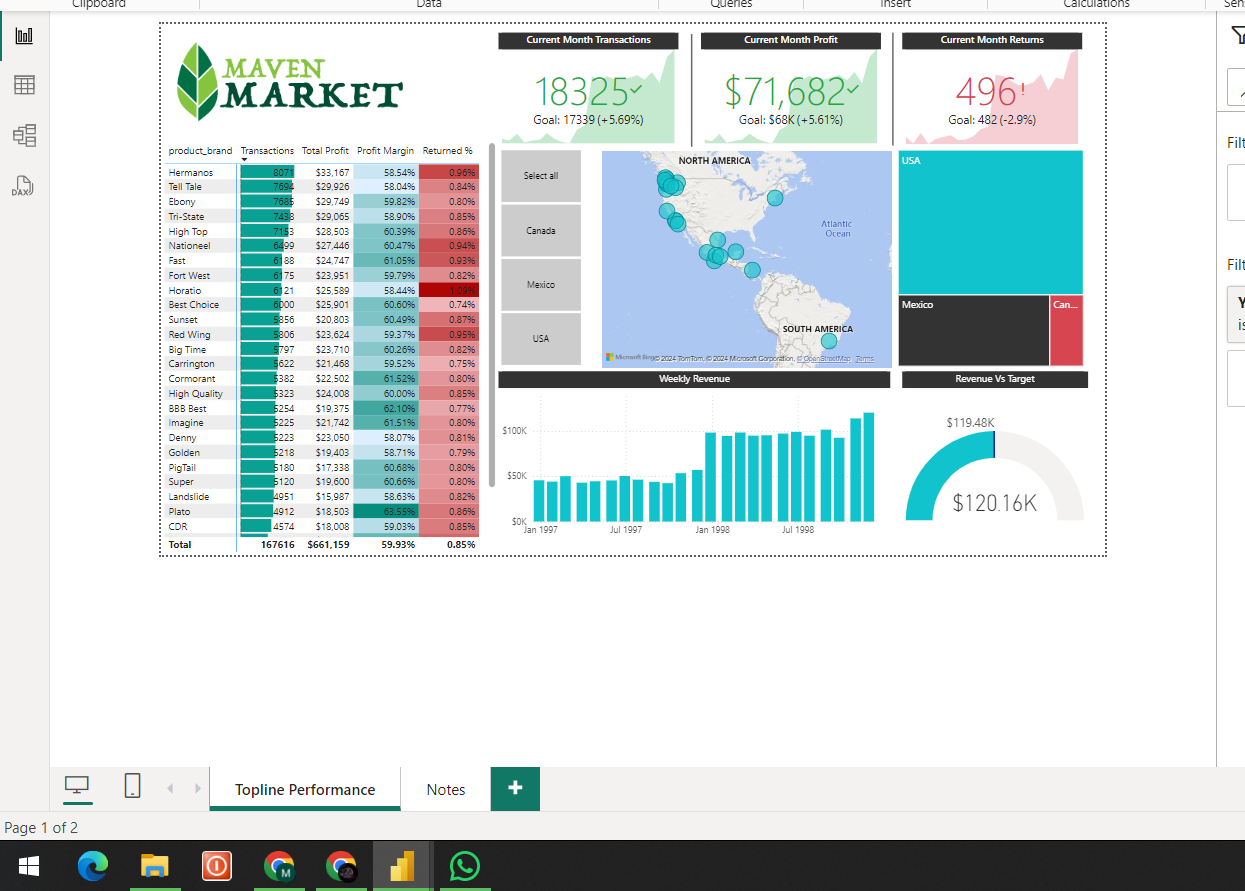

What the dashboard file says about the page in this screenshot:
{"tool":"powerbi","page":{"name":"Topline Performance","canvas":[1280,720],"ordinal":0},"visuals":[{"type":"image","box":[0,11.6,346.6,132.2],"z":0},{"type":"pivotTable","fields":{"Rows":["Products.product_brand"],"Values":["z Measures.Total Transactions","z Measures.Total Profit","z Measures.Profit Margin","Calendar.Returned %"]},"box":[0,155.3,458.3,564.9],"z":1000},{"type":"kpi","title":"Current Month Transactions","fields":{"Indicator":["z Measures.Transactions"],"Goal":["Calendar.Last month transactions"],"TrendLine":["Calendar.Start of Month"]},"box":[458.3,11.6,243.9,155.3],"z":2000},{"type":"kpi","title":"Current Month Profit","fields":{"TrendLine":["Calendar.Start of Month"],"Indicator":["z Measures.Total Profit"],"Goal":["Calendar.Last Month Profit"]},"box":[731.6,11.6,243.9,155.3],"z":3000},{"type":"kpi","title":"Current Month Returns","fields":{"TrendLine":["Calendar.Start of Month"],"Indicator":["z Measures.Total Returns"],"Goal":["z Measures.Last month returns"]},"box":[1004.8,12.5,243.8,156.1],"z":4000},{"type":"map","fields":{"Size":["z Measures.All transactions"],"Category":["Stores.City"]},"box":[592.4,168.6,403.3,303],"z":5000},{"type":"slicer","fields":{"Values":["Stores.Country"]},"box":[435.2,165.2,157.2,304.2],"z":6000},{"type":"treemap","fields":{"Group":["Stores.Country","Stores.City"],"Values":["z Measures.Transactions"]},"box":[995.7,166.3,260.9,303],"z":7000},{"type":"columnChart","title":"Weekly Revenue","fields":{"Category":["Calendar.Start of Week"],"Y":["z Measures.Total Revenue"]},"box":[458.3,471.2,531.5,233.7],"z":7001},{"type":"shape","box":[717.7,12.8,5.1,152.8],"z":7002},{"type":"shape","box":[713.8,11.6,12.8,154.1],"z":7003},{"type":"shape","box":[989.8,11.6,5.1,152.8],"z":7004},{"type":"gauge","title":"Revenue Vs Target","fields":{"TargetValue":["z Measures.Revenue Target"],"Y":["z Measures.Total Revenue"]},"box":[1005.3,471.2,251.6,233.7],"z":7005}]}

Visuals, with their boxes on the page's 1280x720 design canvas (x1, y1, x2, y2). These are canvas units, not pixel positions in the 1245x891 screenshot, which may show the page scaled, cropped or inside an application window:
image: detection(0, 12, 347, 144)
pivotTable - Products.product_brand x z Measures.Total Transactions: detection(0, 155, 458, 720)
"Current Month Transactions" kpi: detection(458, 12, 702, 167)
"Current Month Profit" kpi: detection(732, 12, 976, 167)
"Current Month Returns" kpi: detection(1005, 12, 1249, 169)
map - z Measures.All transactions x Stores.City: detection(592, 169, 996, 472)
slicer - Stores.Country: detection(435, 165, 592, 469)
treemap - Stores.Country x Stores.City: detection(996, 166, 1257, 469)
"Weekly Revenue" columnChart: detection(458, 471, 990, 705)
shape: detection(718, 13, 723, 166)
shape: detection(714, 12, 727, 166)
shape: detection(990, 12, 995, 164)
"Revenue Vs Target" gauge: detection(1005, 471, 1257, 705)
